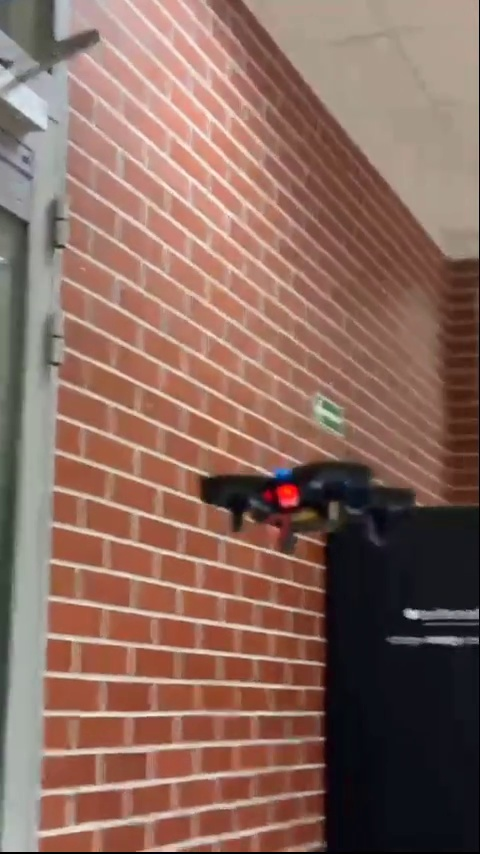drone: (207, 463, 412, 548)
